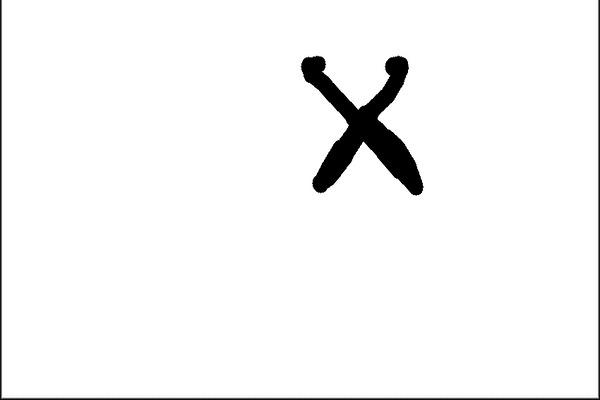X: (275, 40, 458, 200)
